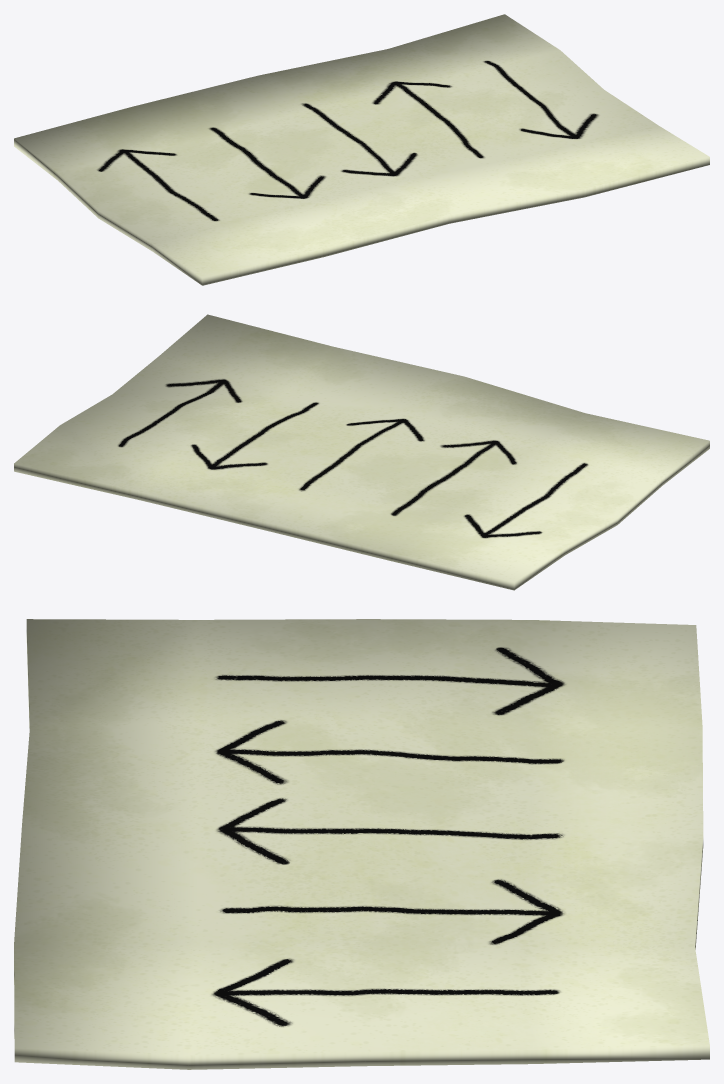
The model's file is Tip 1.fbx.
3 renders of one model, top to bottom at view 1: azimuth 30°, elevation 25°; view 2: azimuth 150°, elevation 25°; view 3: azimuth 270°, elevation 25°, orthographic. The views are drawn at different scales.
Parts seen in each view (by area): view 1: TIP; view 2: TIP; view 3: TIP.
Part boxes in pixels (x1=…): TIP: x1=14, y1=14, x2=709, y2=285; TIP: x1=14, y1=314, x2=709, y2=590; TIP: x1=14, y1=619, x2=709, y2=1069.
Size of the model in its own units: 304 by 9.21 by 206.
1 material, 1 textured.
